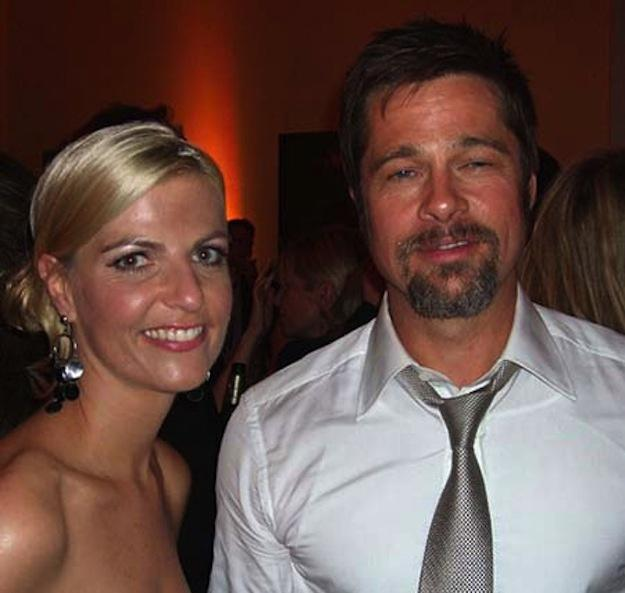Drunk: (360, 89, 526, 313), (93, 173, 239, 390)
